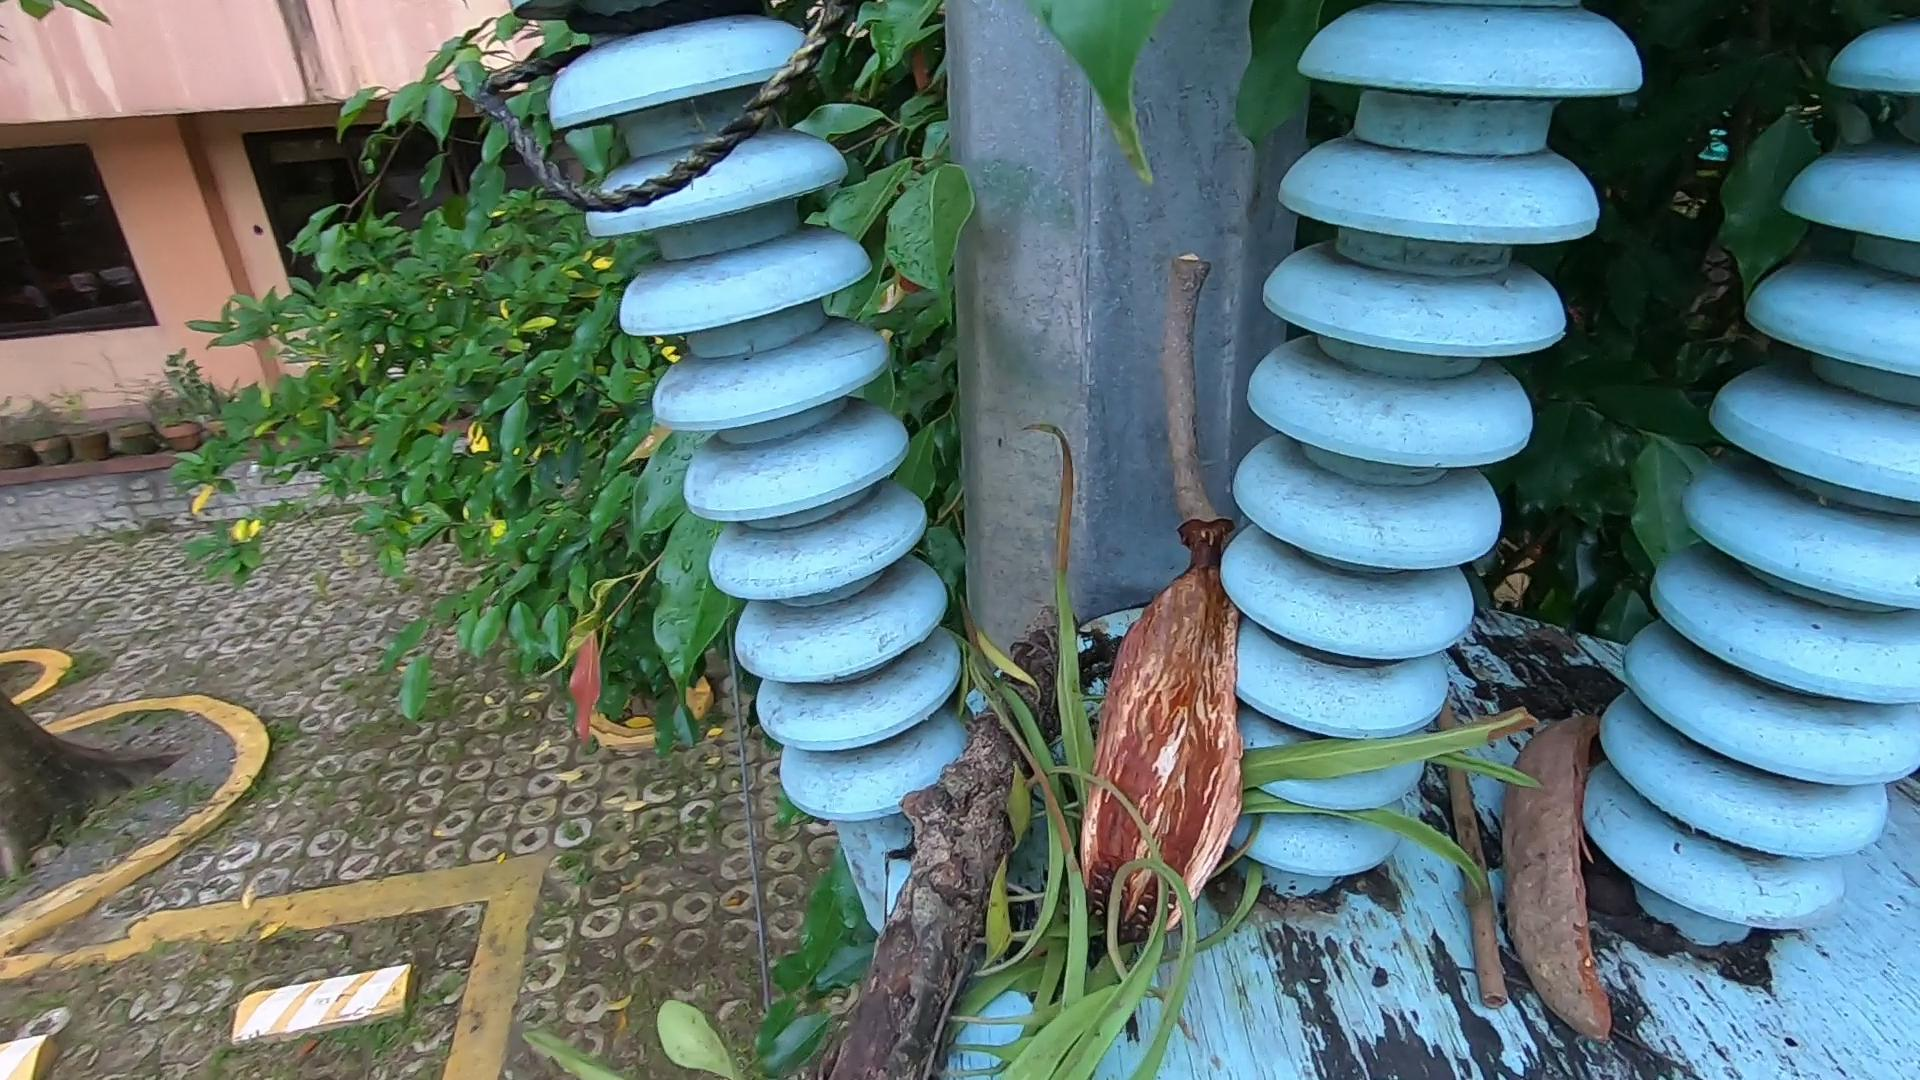branch with leaves: (506, 430, 1542, 1080)
mahogany fruit: (1102, 567, 1266, 926), (1497, 752, 1639, 1063)
tree branch: (1127, 236, 1270, 542), (1428, 702, 1531, 1011)
